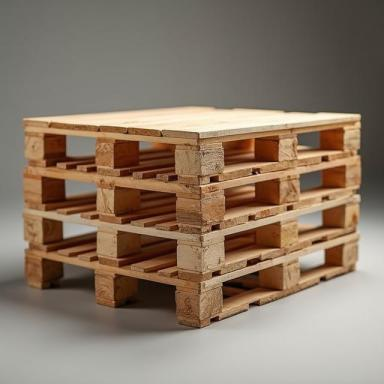pallet: (24, 232, 360, 329), (21, 194, 361, 282), (22, 105, 362, 185), (23, 155, 362, 234), (224, 183, 255, 225), (222, 138, 255, 173), (224, 228, 256, 258)
